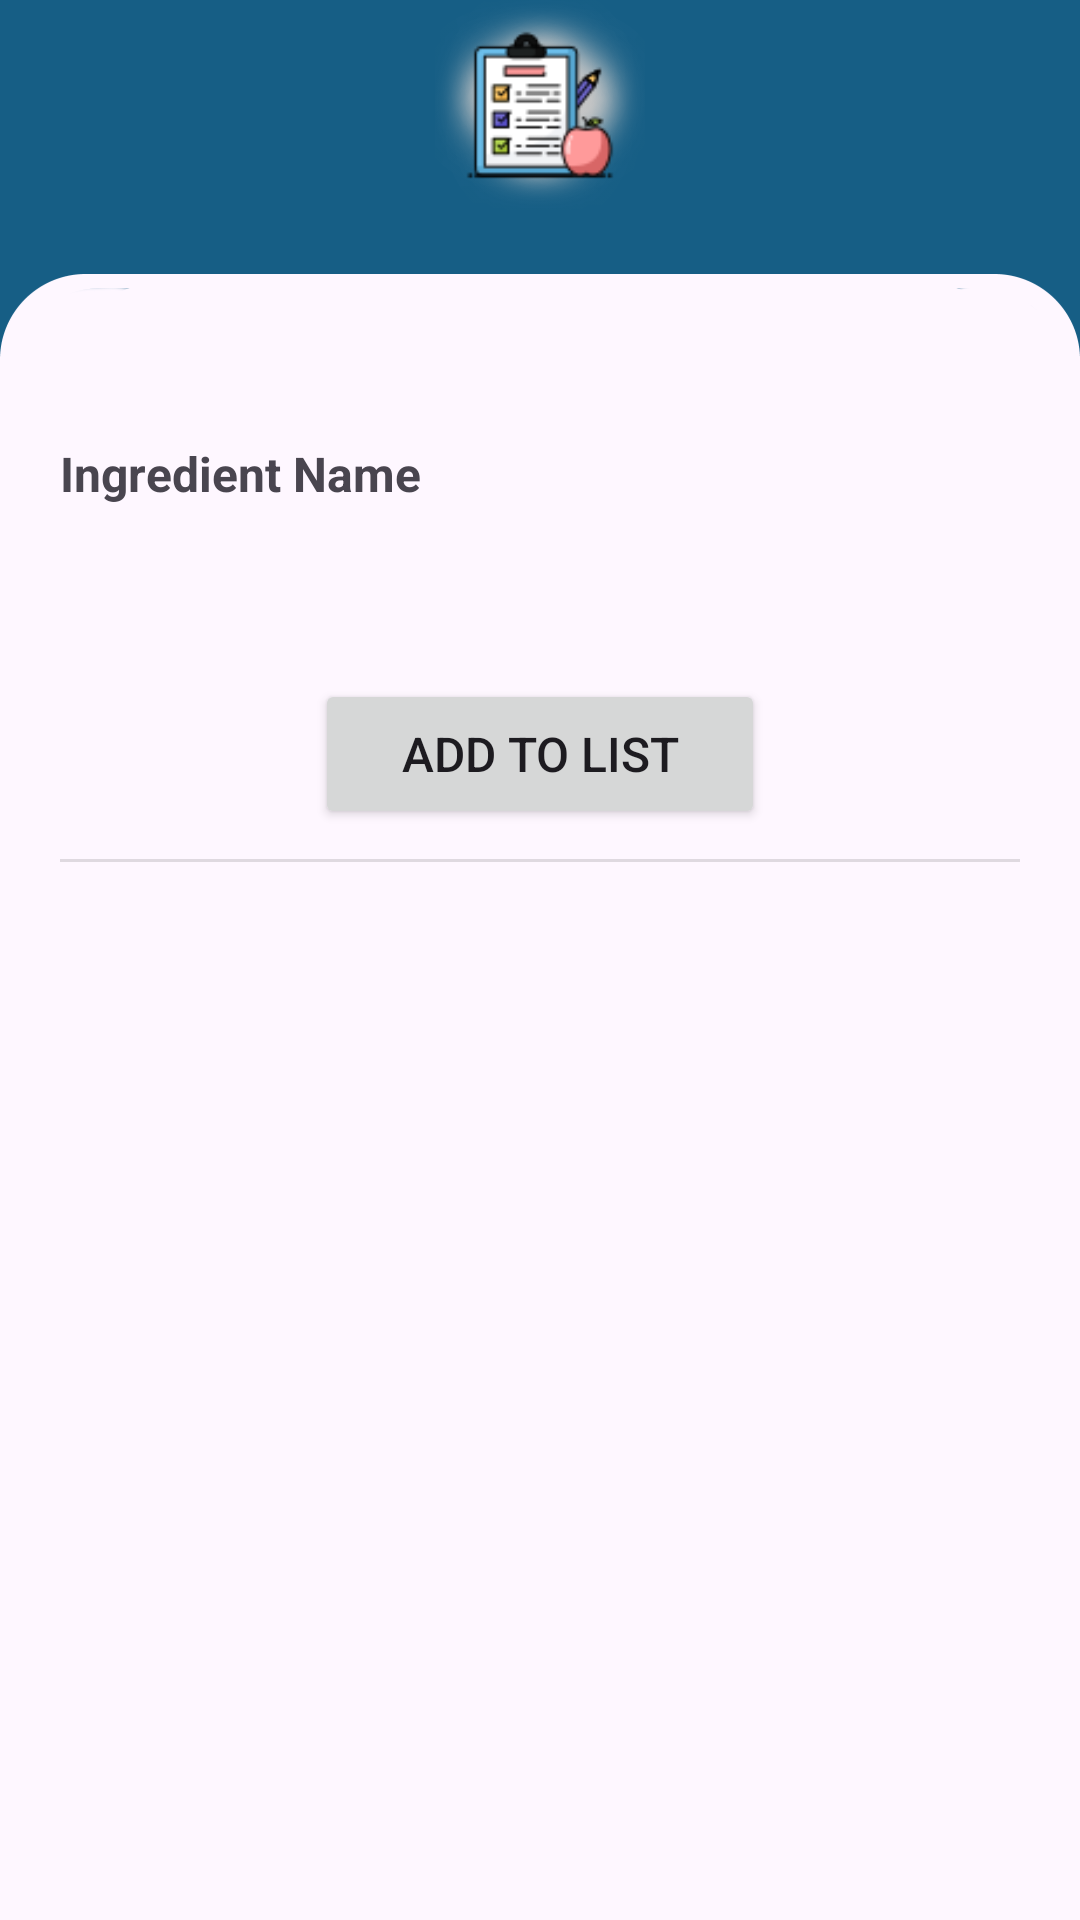

Where icons sit on this 1080 × 1920 app screen, as bbox=[x1, y1, x2, y2]:
dietary: bbox=[449, 17, 630, 191]
